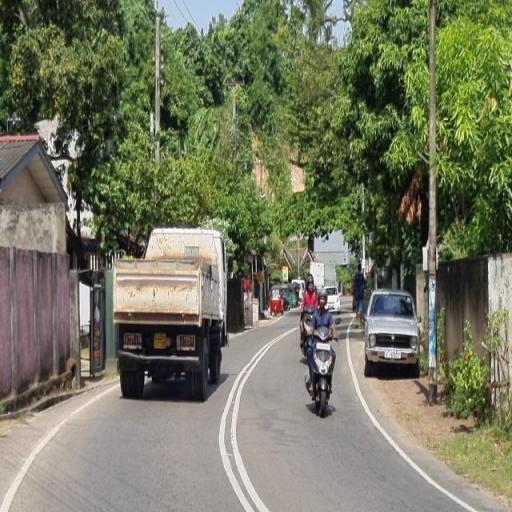double_white_line: (343, 322, 478, 510), (216, 326, 278, 512)
